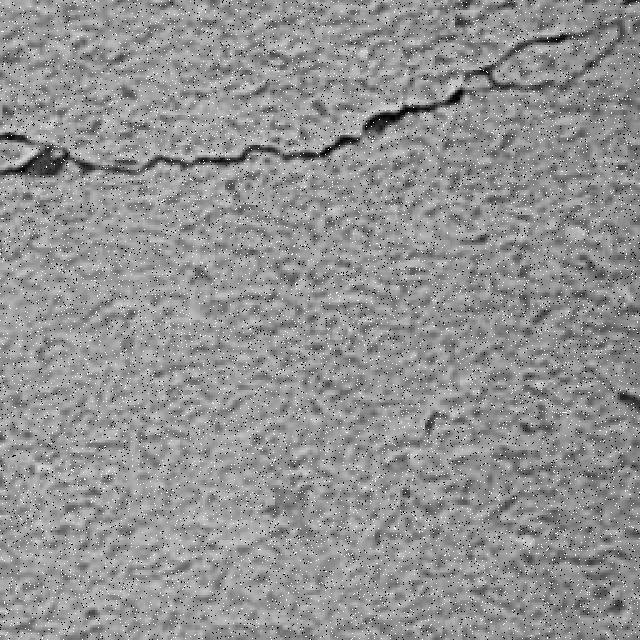Crack: (1, 13, 629, 178)
